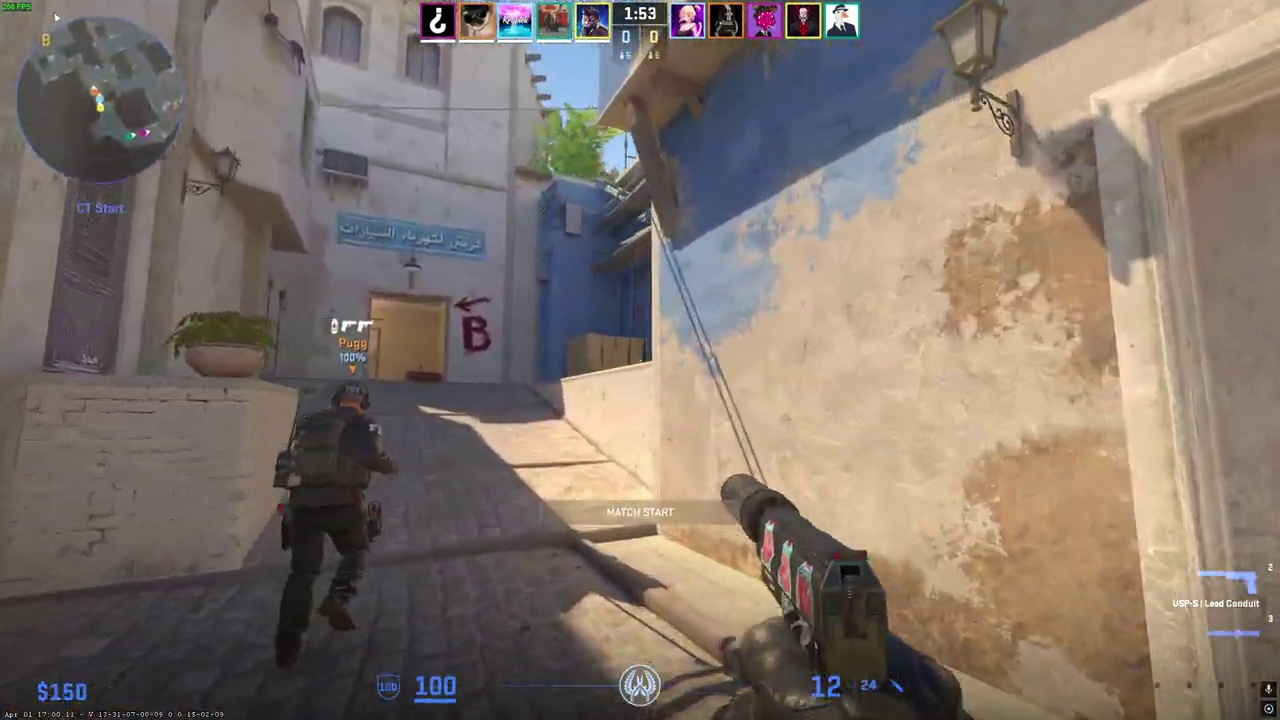CT: (269, 377, 389, 673)
